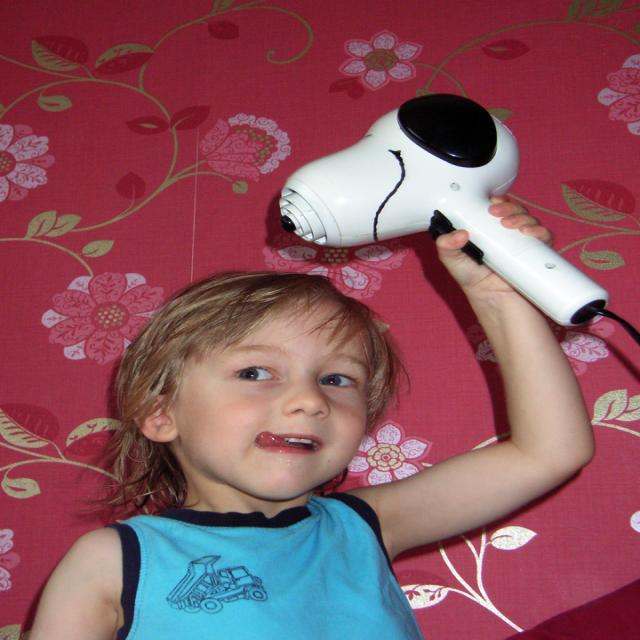dryer: (245, 80, 627, 346)
